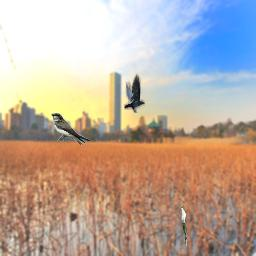Crow: (124, 73, 145, 113)
Cuckoo: (180, 206, 187, 246)
Swallow: (51, 113, 91, 145)
